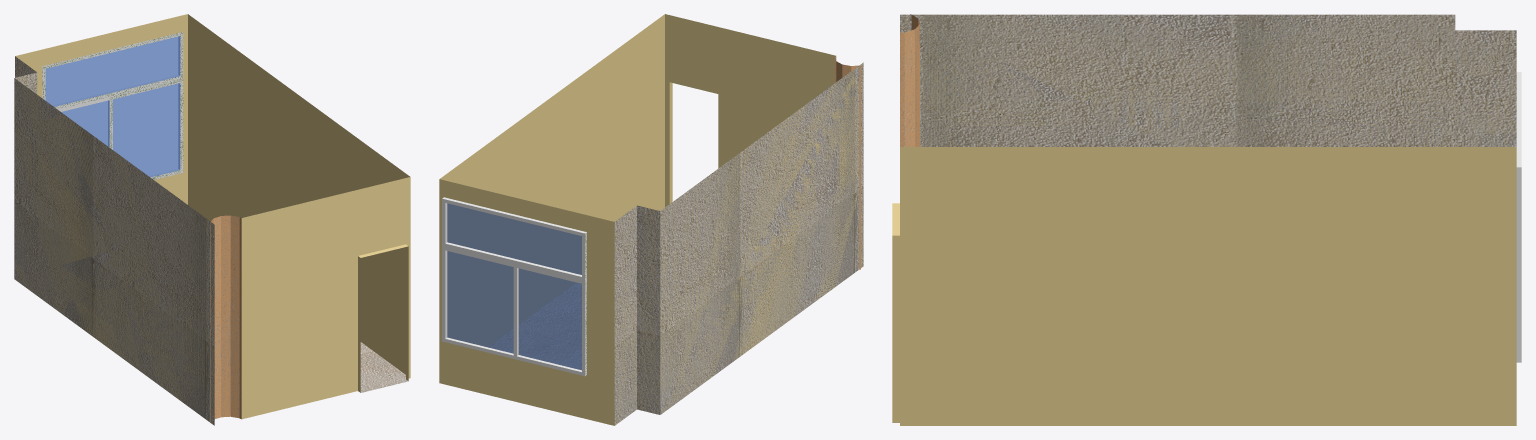
Rendered from DES025.obj.
The picture shows the model from 3 angles, left to right: view 1: azimuth 30°, elevation 25°; view 2: azimuth 150°, elevation 25°; view 3: azimuth 270°, elevation 25°; orthographic projection. The views are drawn at different scales.
Parts seen in each view (by area): view 1: Mesh7 DES025 Model, Mesh1 ventana1_1 DES025 Model; view 2: Mesh7 DES025 Model, Mesh1 ventana1_1 DES025 Model; view 3: Mesh7 DES025 Model, Mesh1 ventana1_1 DES025 Model.
Boxes of the visible parts, x1,y1,x2,y2 form: Mesh7 DES025 Model: (14, 14, 410, 425); Mesh1 ventana1_1 DES025 Model: (42, 32, 183, 179); Mesh7 DES025 Model: (439, 14, 863, 425); Mesh1 ventana1_1 DES025 Model: (442, 197, 586, 376); Mesh7 DES025 Model: (892, 14, 1516, 425); Mesh1 ventana1_1 DES025 Model: (1516, 72, 1521, 362).
Size of the model in its own units: 3.07 by 3 by 6.14.
Materials: 7 (2 with a texture image).
